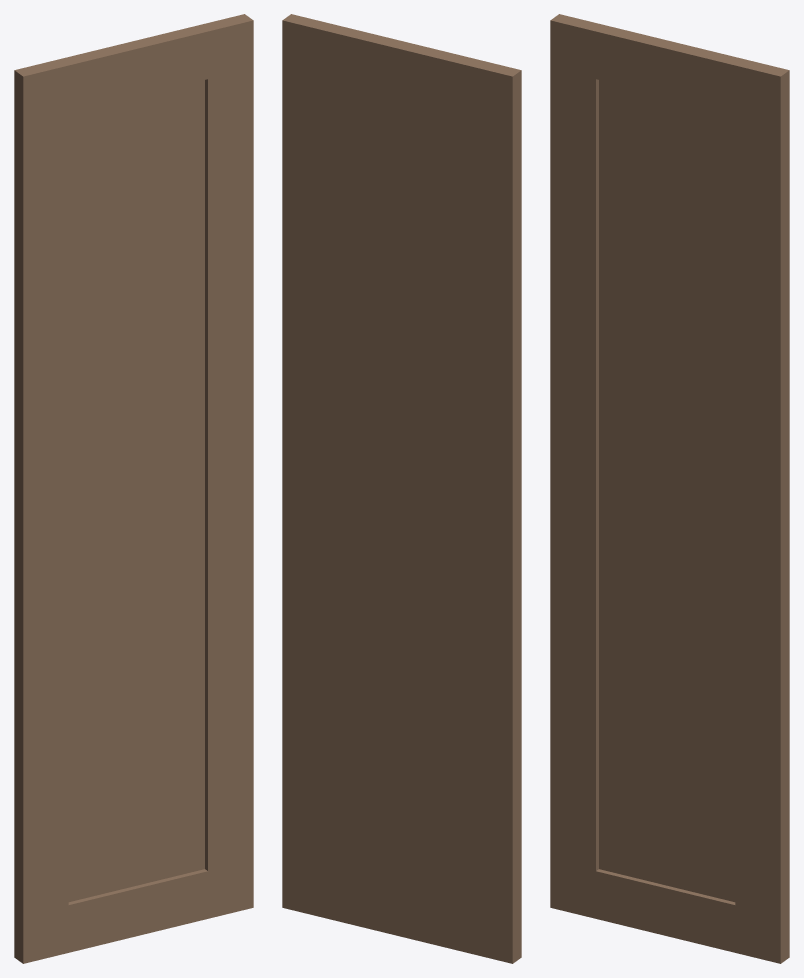
File: door_02.obj
3 views of the same model, side by side, from view 1: azimuth 30°, elevation 25°; view 2: azimuth 150°, elevation 25°; view 3: azimuth 330°, elevation 25° (orthographic).
Visible parts, largest first — view 1: door_02; view 2: door_02; view 3: door_02.
Part boxes in pixels (x1,y1,x2,y2): door_02: (14, 14, 253, 963); door_02: (282, 14, 521, 963); door_02: (550, 14, 789, 963).
Size of the model in its own units: 289 by 1064 by 19.05.
